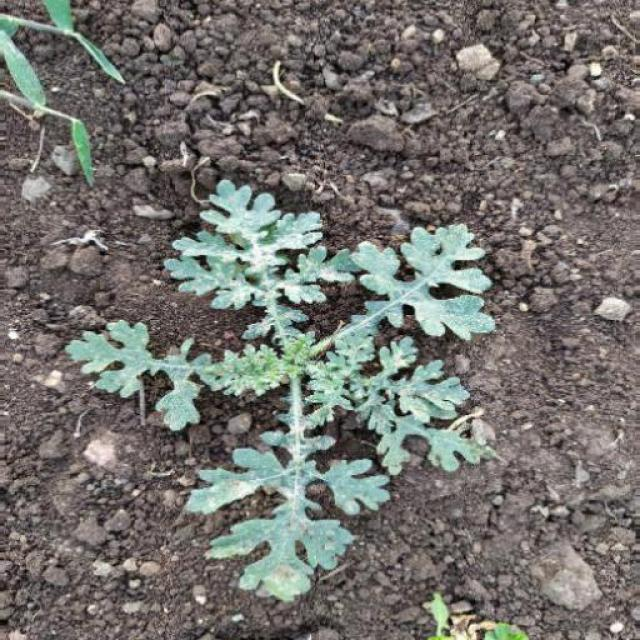weed: (59, 155, 510, 597)
